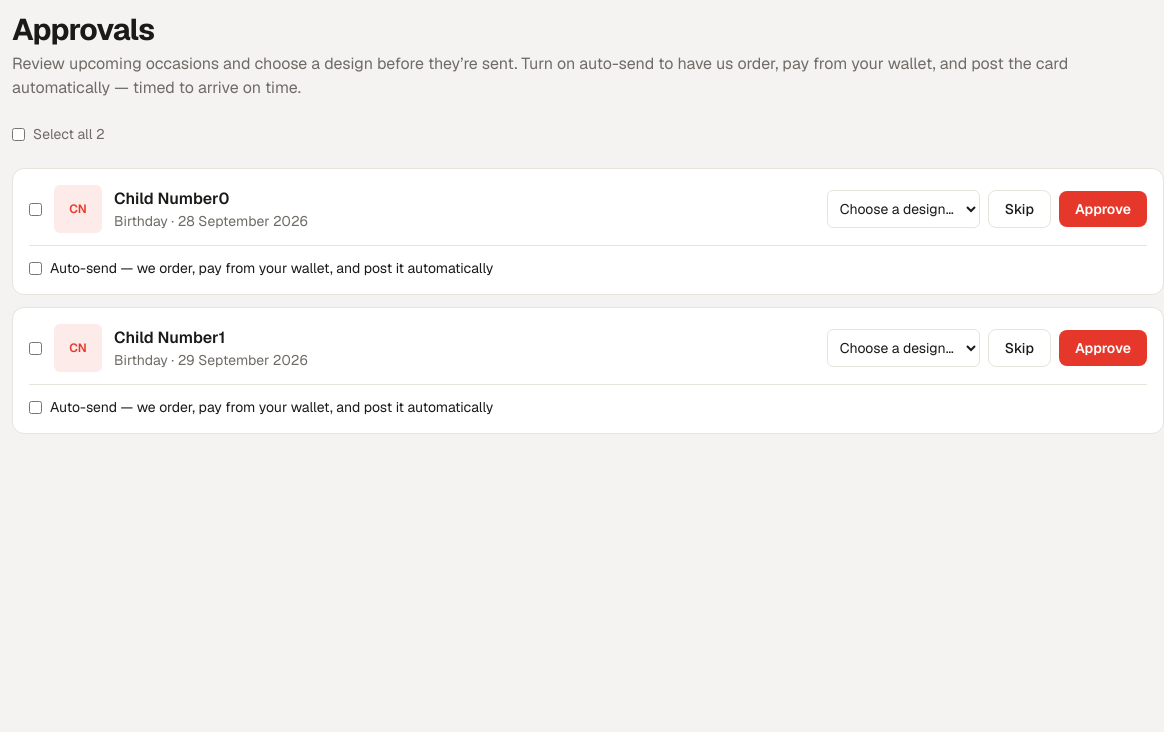
Test case: ApprovalsClient › what an approved auto-send card says about itself › says nothing about when it posts rather than saying the wrong day
The width and height of the screenshot is (1164, 732).
Click the checkbox labelled "Select all 2" at (18, 134), box x1=12 y1=128 x2=25 y2=140
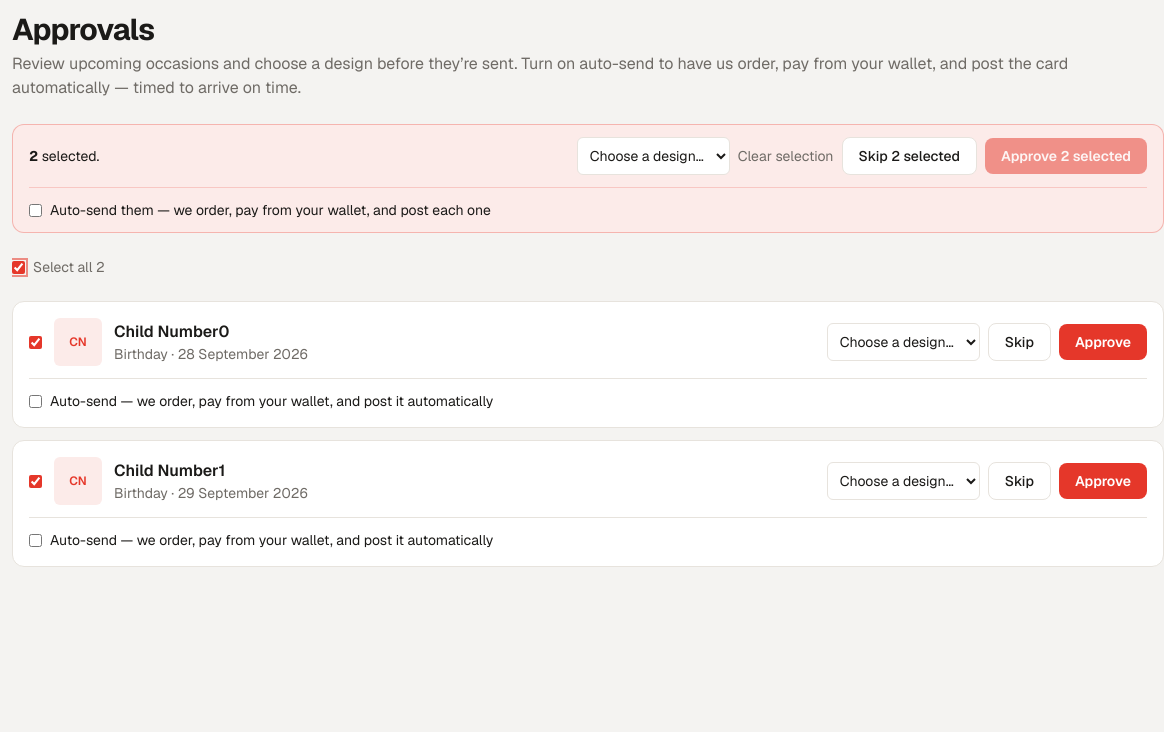
Select "Happy Birthday" in the dropdown named "Design to approve the selected cards with" at (653, 156), box x1=577 y1=137 x2=730 y2=175
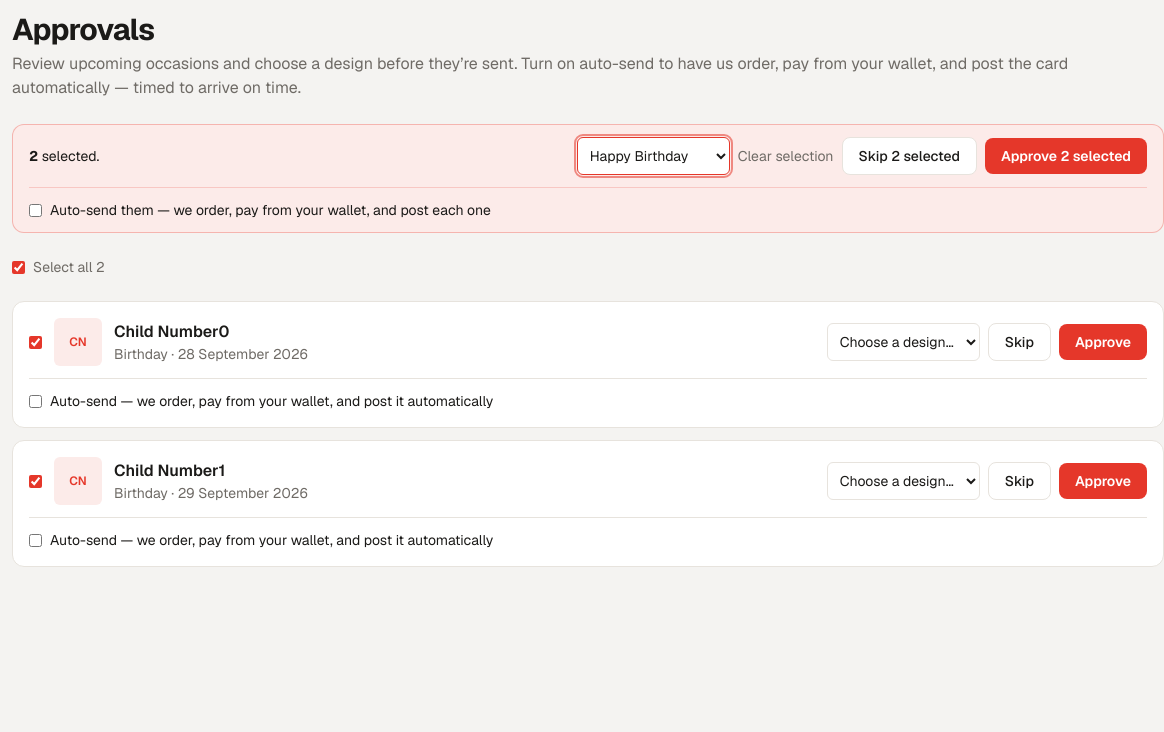
Click the checkbox labelled "Auto-send them" at (36, 210), box x1=29 y1=204 x2=42 y2=216
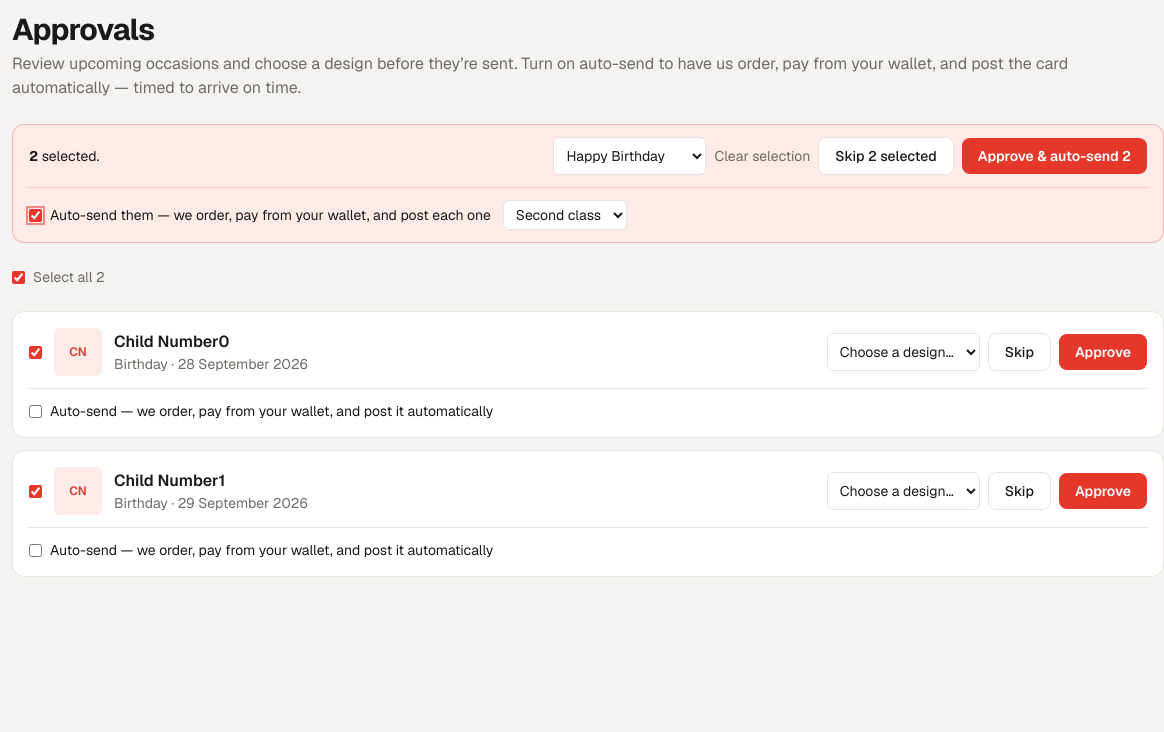
Click the button "Approve & auto-send 2" at (1054, 156), box x1=962 y1=138 x2=1147 y2=174
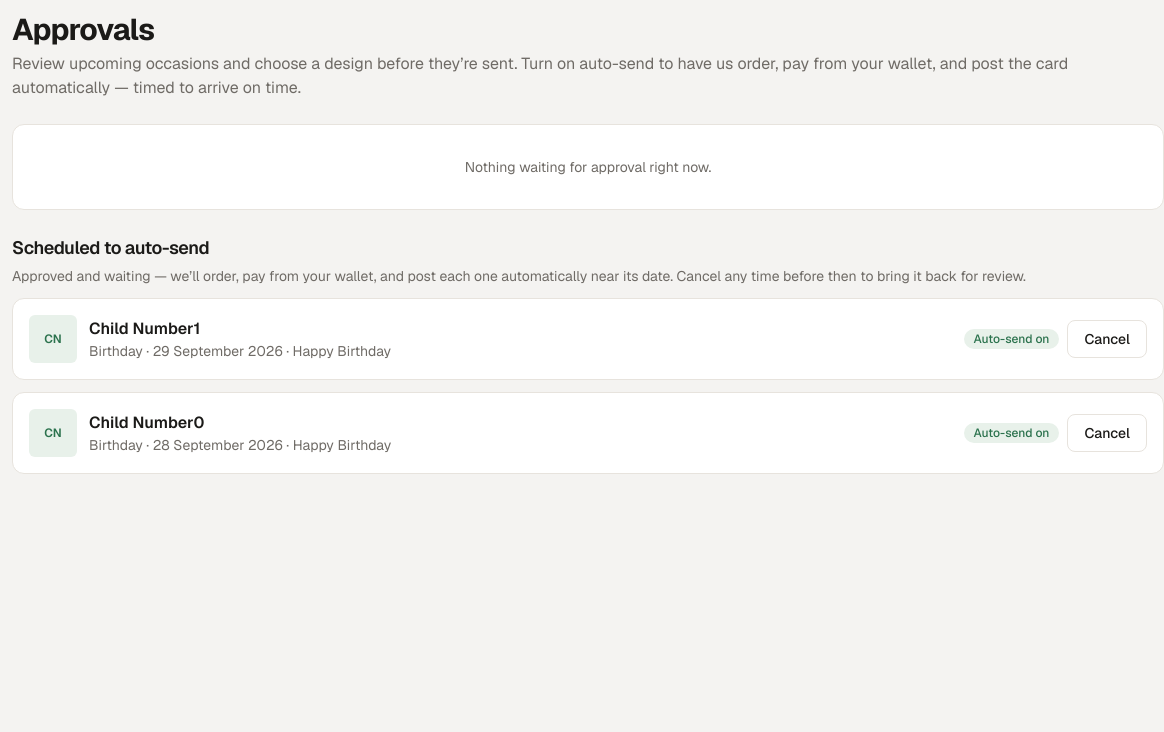
expect the text "Auto-send on" in the row of "29 September 2026" is shown: met, box x1=974 y1=331 x2=1050 y2=347
